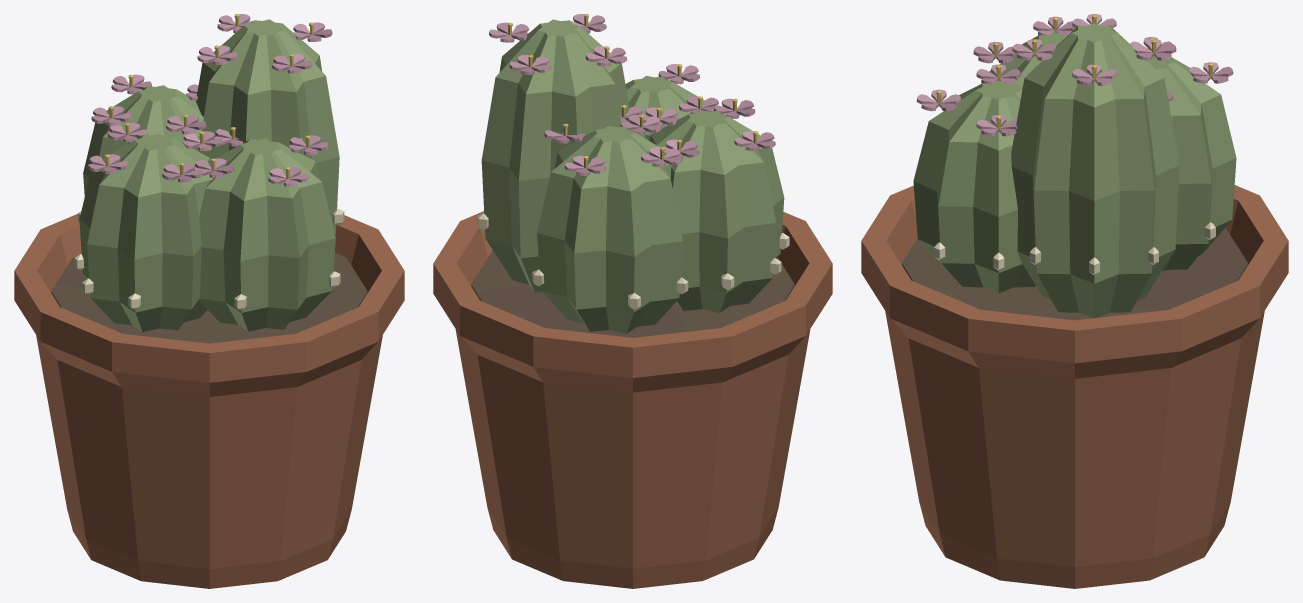
File: cluster.glb
3 renders of one model, left to right at view 1: azimuth 30°, elevation 25°; view 2: azimuth 150°, elevation 25°; view 3: azimuth 270°, elevation 25°, orthographic. The views are drawn at different scales.
Parts seen in each view (by area): view 1: cluster/review-terra-vessel, cluster/ribbed-stem-106, cluster/ribbed-stem-071, cluster/ribbed-stem-001, cluster/review-rooted-soil, cluster/ribbed-stem-036; view 2: cluster/review-terra-vessel, cluster/ribbed-stem-036, cluster/ribbed-stem-001, cluster/ribbed-stem-071, cluster/review-rooted-soil, cluster/ribbed-stem-106; view 3: cluster/review-terra-vessel, cluster/ribbed-stem-001, cluster/ribbed-stem-106, cluster/ribbed-stem-036, cluster/review-rooted-soil, cluster/ribbed-stem-071.
Part boxes in pixels (x1=…): cluster/review-terra-vessel: x1=14, y1=214, x2=404, y2=588; cluster/ribbed-stem-106: x1=198, y1=138, x2=335, y2=331; cluster/ribbed-stem-071: x1=79, y1=134, x2=213, y2=332; cluster/ribbed-stem-001: x1=196, y1=19, x2=339, y2=234; cluster/review-rooted-soil: x1=51, y1=253, x2=367, y2=343; cluster/ribbed-stem-036: x1=83, y1=85, x2=203, y2=196; cluster/review-terra-vessel: x1=433, y1=211, x2=832, y2=588; cluster/ribbed-stem-036: x1=537, y1=125, x2=682, y2=333; cluster/ribbed-stem-001: x1=481, y1=19, x2=629, y2=292; cluster/ribbed-stem-071: x1=649, y1=110, x2=784, y2=312; cluster/review-rooted-soil: x1=471, y1=250, x2=794, y2=337; cluster/ribbed-stem-106: x1=625, y1=75, x2=705, y2=140; cluster/review-terra-vessel: x1=861, y1=185, x2=1288, y2=588; cluster/ribbed-stem-001: x1=1011, y1=23, x2=1179, y2=318; cluster/ribbed-stem-106: x1=913, y1=80, x2=1035, y2=293; cluster/ribbed-stem-036: x1=1147, y1=56, x2=1236, y2=271; cluster/review-rooted-soil: x1=902, y1=228, x2=1247, y2=320; cluster/ribbed-stem-071: x1=989, y1=32, x2=1068, y2=86.
Size of the model in its own units: 0.19 by 0.2586 by 0.19.
6 materials, 6 textured.
